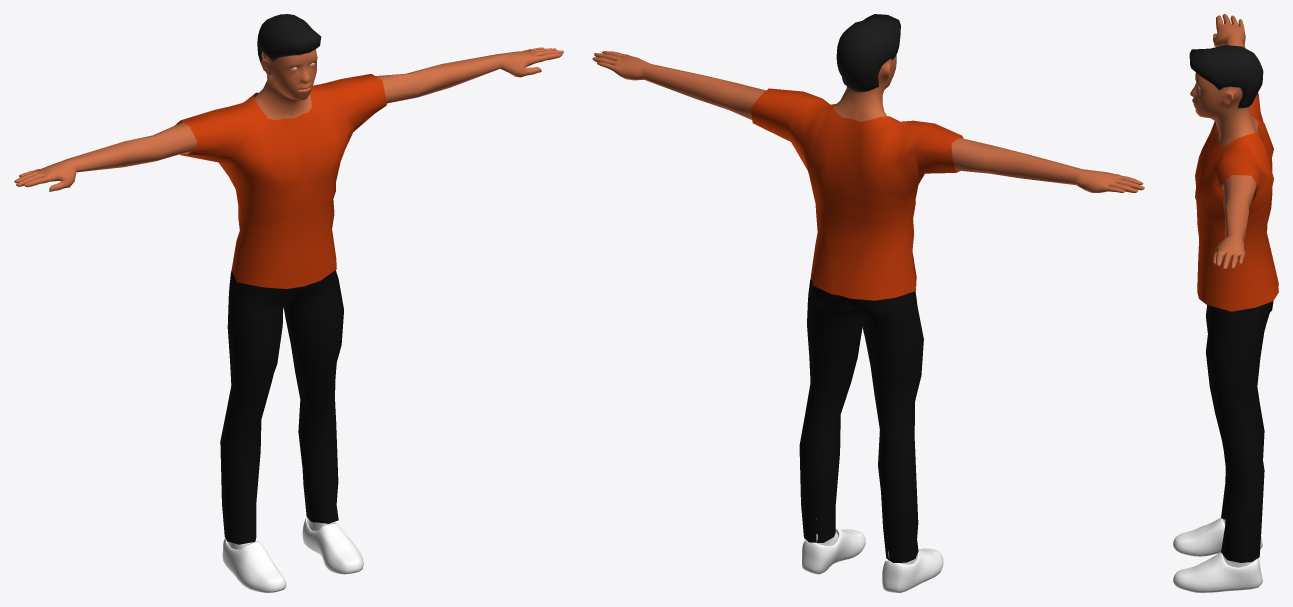
The model's file is Man 3.obj.
3 renders of one model, left to right at view 1: azimuth 30°, elevation 25°; view 2: azimuth 150°, elevation 25°; view 3: azimuth 270°, elevation 25°, orthographic. The views are drawn at different scales.
Visible parts, largest first — view 1: Human:Male1591.001, Human:Male1591.002, Human:Male1591, Human:Shoes05, Human:Male1591.003_Human:Male1591.005; view 2: Human:Male1591.001, Human:Male1591.002, Human:Male1591, Human:Shoes05, Human:Male1591.003_Human:Male1591.005; view 3: Human:Male1591.002, Human:Male1591.001, Human:Male1591, Human:Shoes05, Human:Male1591.003_Human:Male1591.005.
Part boxes in pixels (x1,y1,x2,y2): Human:Male1591.001: (174,74,387,288); Human:Male1591.002: (220,270,343,544); Human:Male1591: (14,47,563,191); Human:Shoes05: (222,517,363,592); Human:Male1591.003_Human:Male1591.005: (257,14,321,73); Human:Male1591.001: (750,88,963,300); Human:Male1591.002: (799,278,923,562); Human:Male1591: (592,51,1144,193); Human:Shoes05: (802,518,943,592); Human:Male1591.003_Human:Male1591.005: (836,14,900,92); Human:Male1591.002: (1206,301,1273,562); Human:Male1591.001: (1195,93,1278,311); Human:Male1591: (1190,14,1258,269); Human:Shoes05: (1173,518,1262,592); Human:Male1591.003_Human:Male1591.005: (1189,45,1263,108).
Size of the model in its own units: 19.93 by 19.06 by 3.51.
